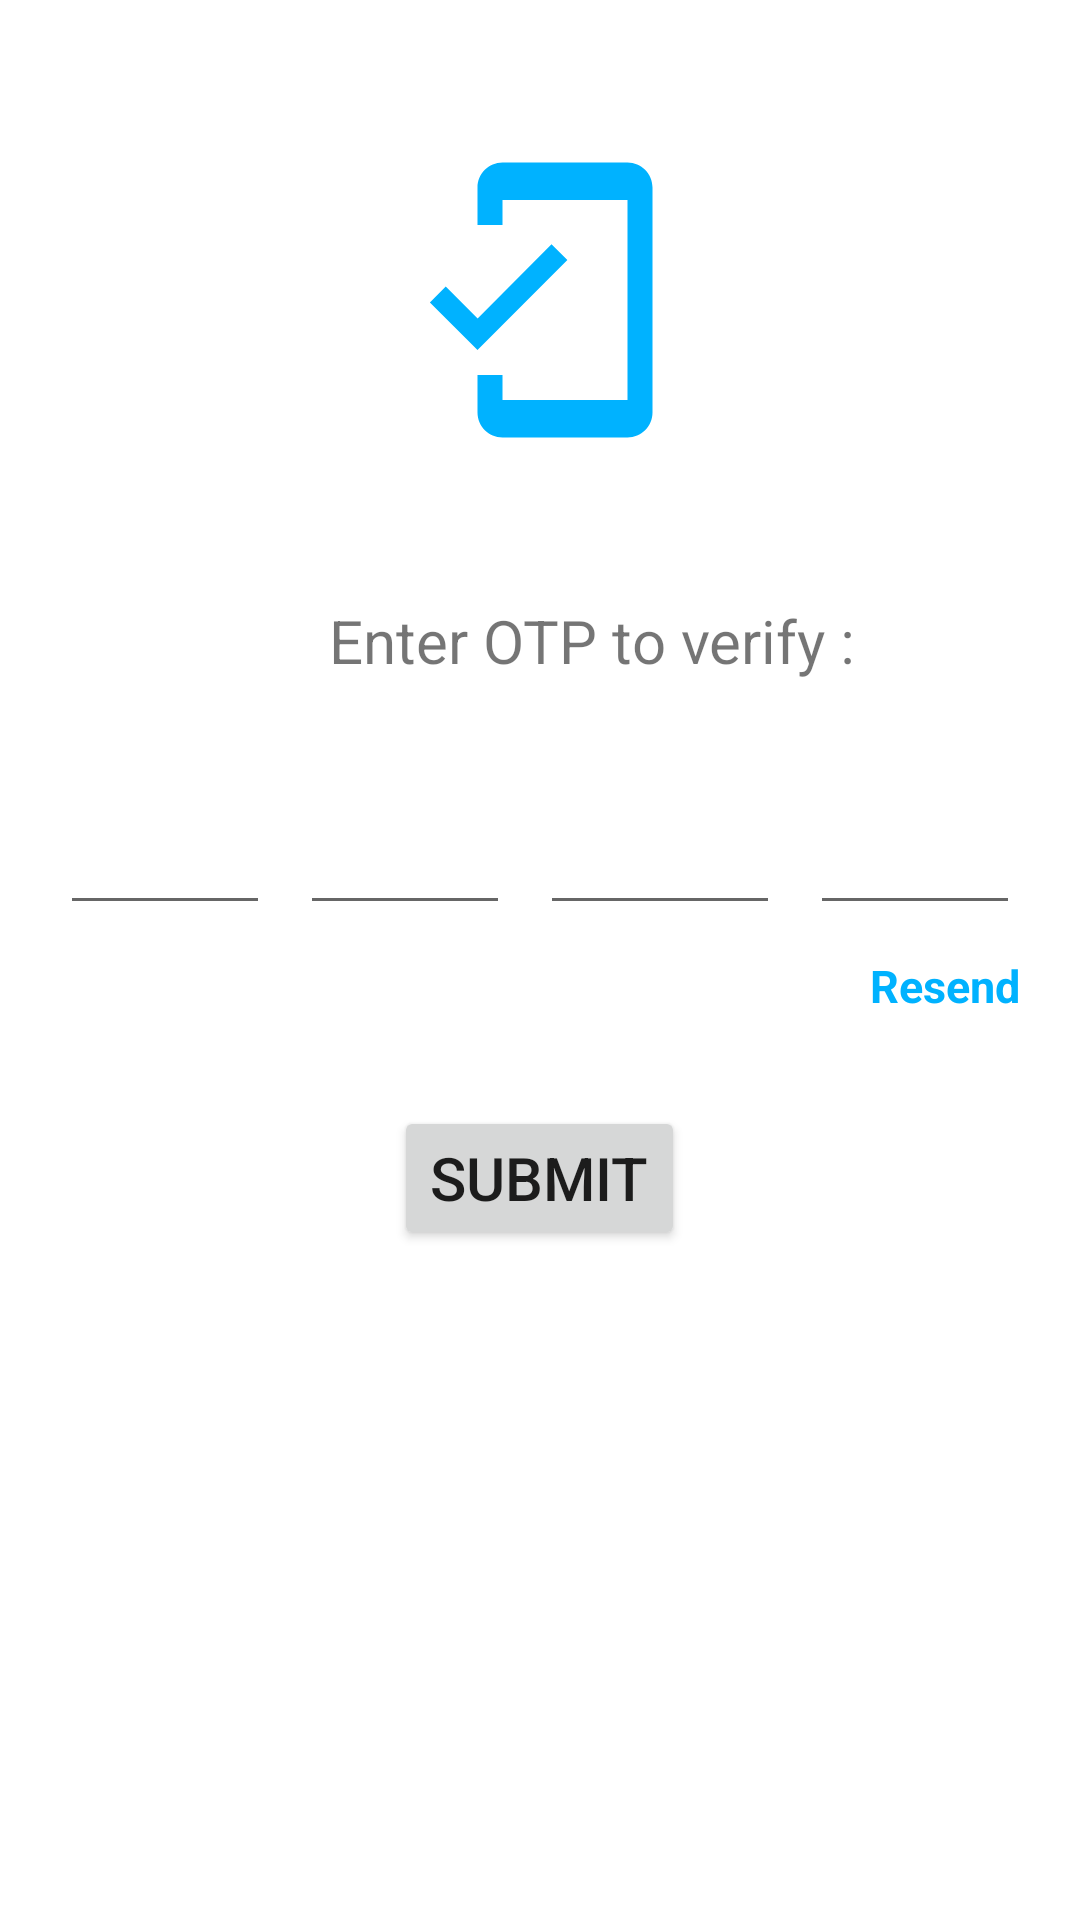

Icon click points for this 1080px×1920px phone screenshot, format (x=x, y=y):
mobile friendly: (x=541, y=300)
